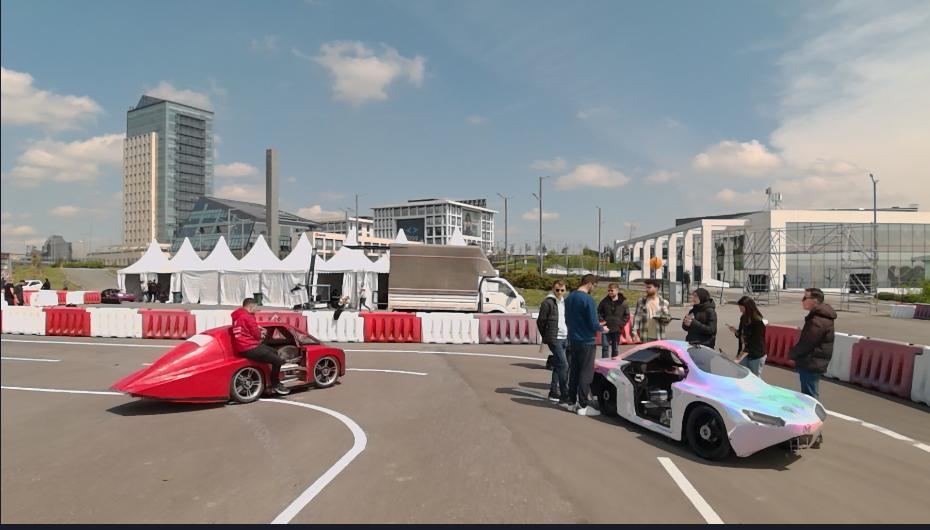nesne: (268, 344, 930, 524), (265, 345, 727, 526), (598, 405, 929, 525), (595, 339, 823, 460), (114, 297, 350, 403), (267, 396, 368, 523), (343, 244, 524, 313), (265, 310, 537, 343), (815, 332, 928, 410), (0, 306, 232, 340), (564, 273, 609, 415), (233, 295, 293, 395), (788, 284, 837, 404), (537, 276, 574, 412), (657, 457, 726, 525), (829, 409, 929, 452), (847, 339, 917, 397), (723, 294, 767, 378), (631, 276, 683, 345), (346, 347, 546, 360), (291, 245, 331, 308), (599, 282, 631, 357), (681, 284, 716, 345), (818, 332, 857, 381), (306, 310, 364, 342), (364, 310, 422, 342), (421, 312, 479, 344), (479, 313, 536, 343), (142, 308, 194, 340), (89, 308, 142, 339), (0, 337, 173, 346), (765, 320, 796, 367), (905, 345, 928, 408), (44, 306, 90, 336), (0, 306, 46, 335), (0, 383, 121, 393), (29, 290, 100, 305), (194, 310, 232, 335), (349, 365, 425, 377), (884, 301, 930, 320), (264, 311, 307, 329), (0, 353, 64, 362), (102, 288, 135, 305), (357, 278, 371, 307), (4, 276, 19, 303), (30, 291, 58, 305), (888, 303, 915, 317), (13, 277, 26, 305), (148, 277, 159, 302), (912, 303, 929, 319), (65, 292, 83, 304), (82, 292, 101, 302), (25, 278, 41, 288), (56, 291, 66, 305), (41, 276, 50, 288), (172, 290, 181, 302)
